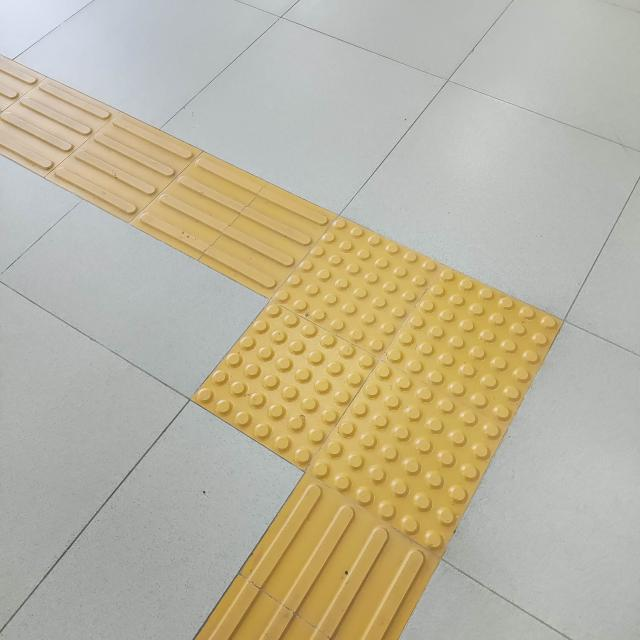kiri: (103, 102, 540, 576)
